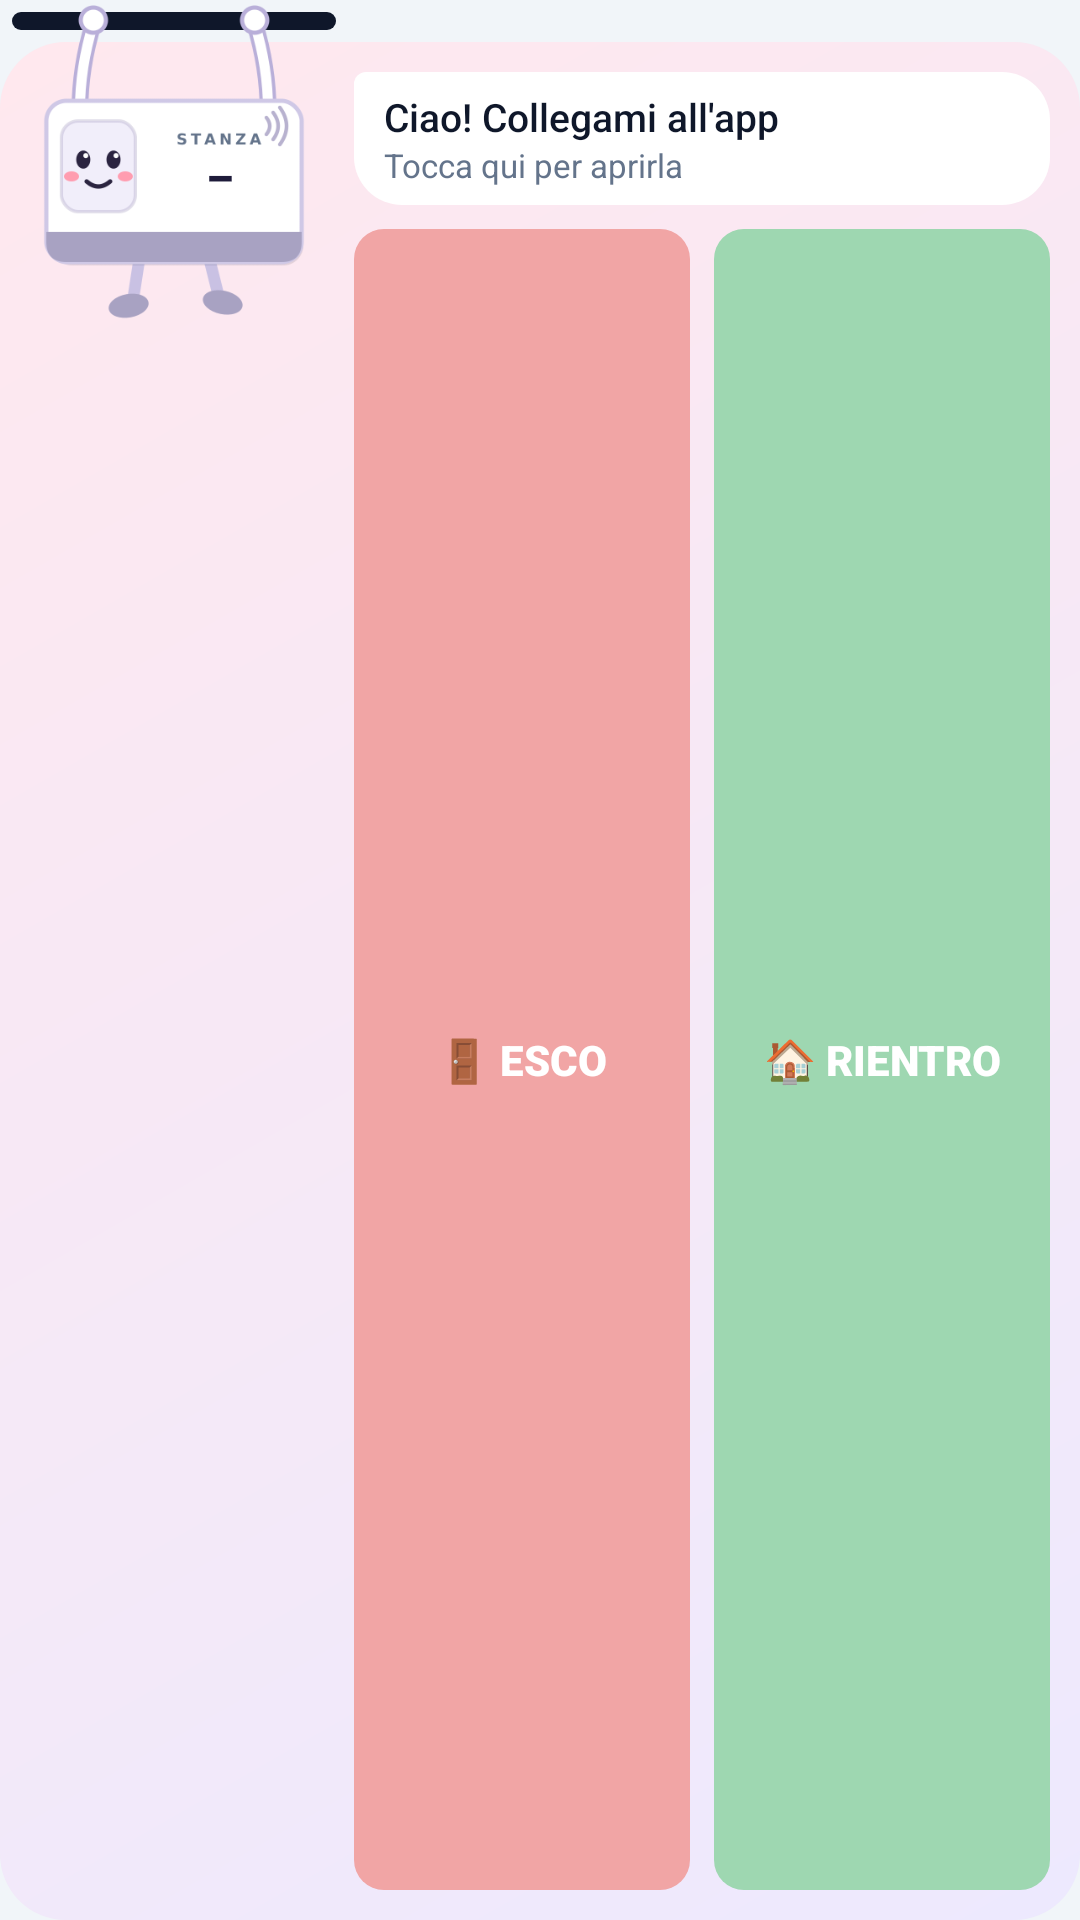

Named icons in this screenshot (1080w x 1920h) and their bounding boxes, (x1, y1, x2, y2):
tessera neutra: (12, 5, 336, 318)
